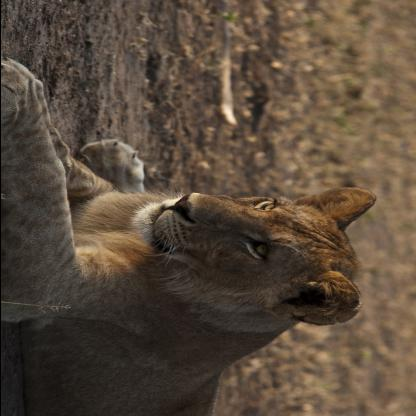lion: (130, 188, 382, 330)
